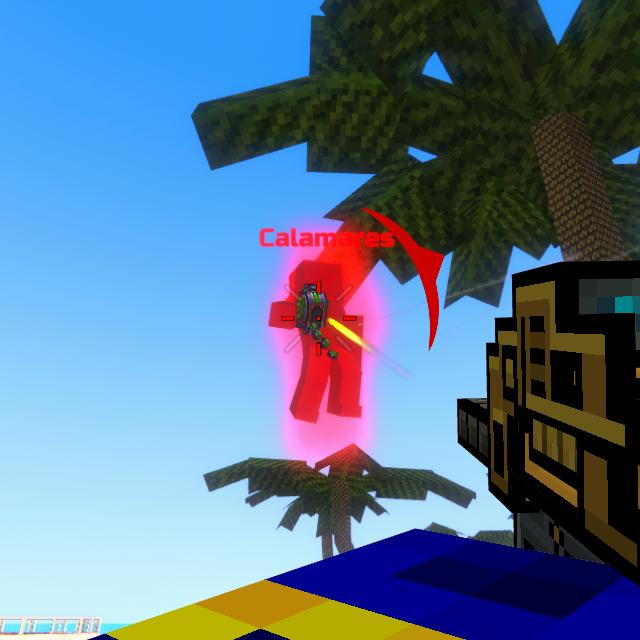Enemy: (269, 260, 364, 424)
